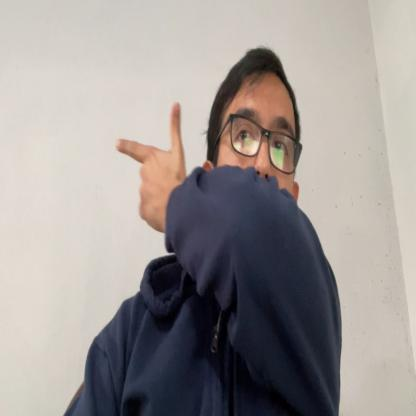G: (116, 101, 182, 233)
